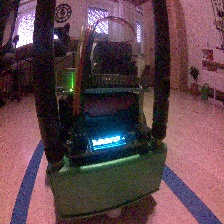rob: (45, 40, 168, 220)
